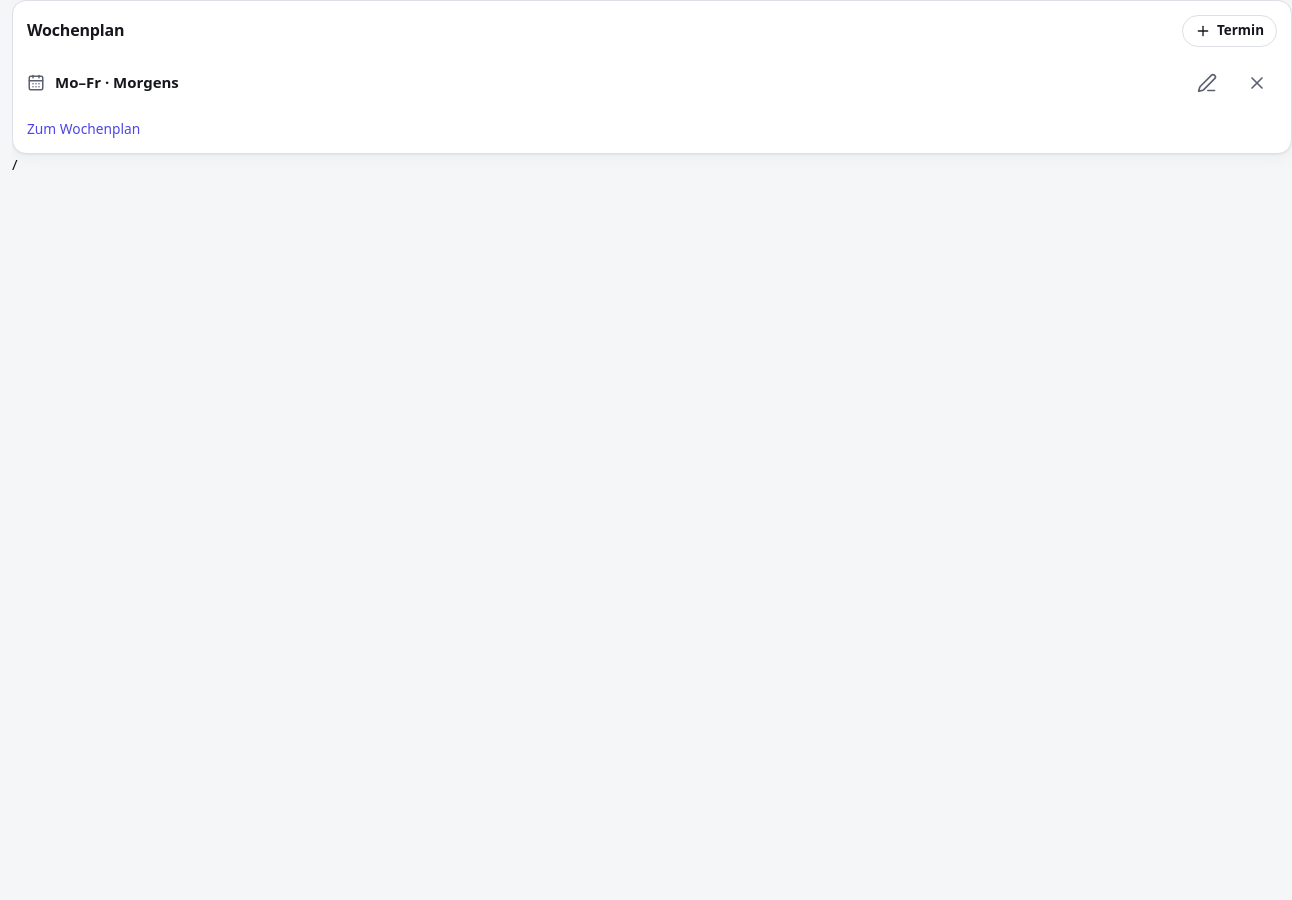
ShowSchedule › applies the edit to the newer plan when the plan changed elsewhere
What coordinates should you click on to do the following:
click the button named "Mo–Fr · Morgens entfernen"
I would click on:
 (1257, 83)
Its box is [1237,63,1277,103].
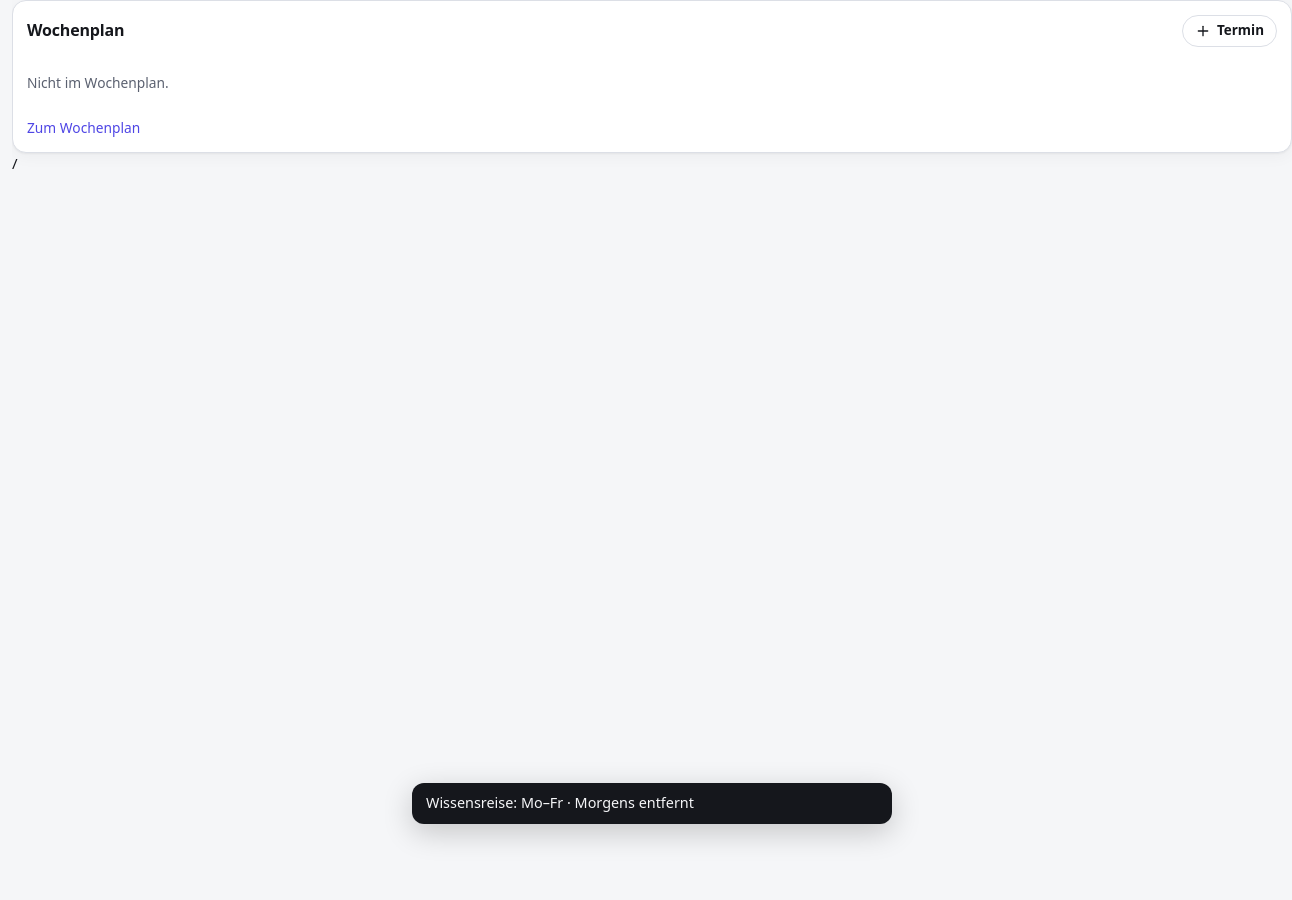
Expected: the text "Wissensreise: Mo–Fr · Morgens entfernt" is shown, [426,793,694,812]
